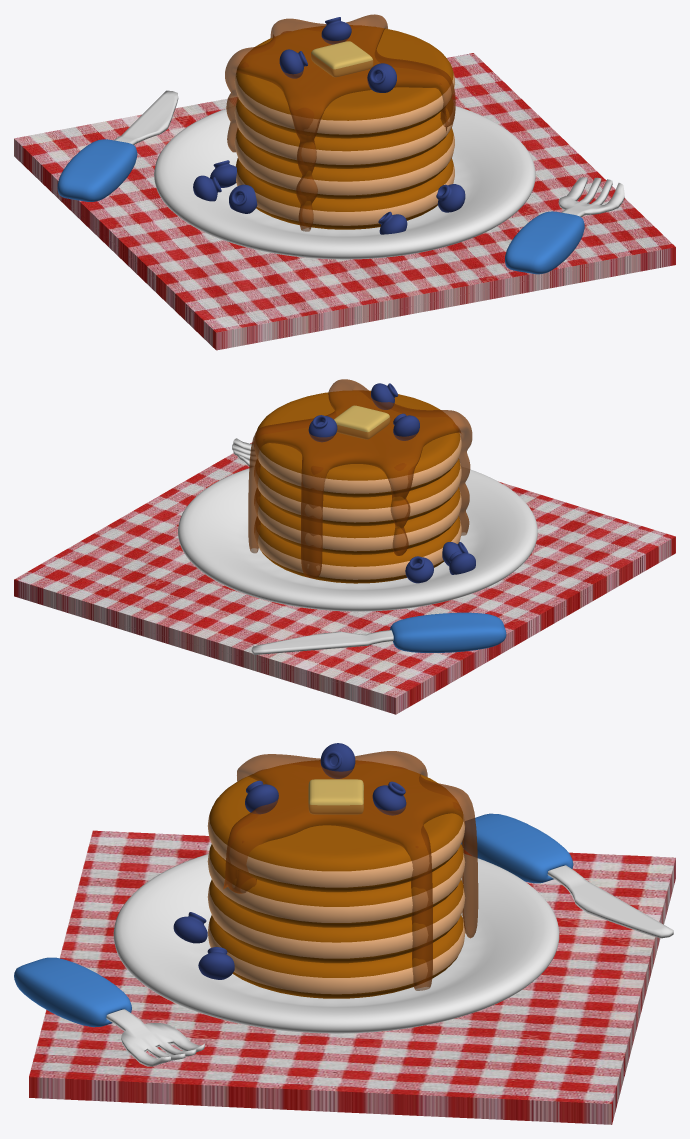
Rendered from pancake.glb.
The picture shows the model from 3 angles, top to bottom: view 1: azimuth 30°, elevation 25°; view 2: azimuth 150°, elevation 25°; view 3: azimuth 270°, elevation 25°; orthographic projection. The views are drawn at different scales.
Visible parts, largest first — view 1: Plane.002, Circle.001, Circle, Plane, Cube.004, Cube.002, Cube.001, Cube, Cube.003, Sphere.006, Sphere.003, Sphere.002 (+5 smaller); view 2: Plane.002, Circle.001, Circle, Plane, Cube.004, Cube.003, Cube, Sphere, Sphere.005, Sphere.007, Sphere.006, Sphere.004; view 3: Plane.002, Circle.001, Circle, Plane, Cube.002, Cube.004, Cube.003, Cube.001, Cube, Sphere.007, Sphere.003, Sphere.005 (+2 smaller).
Boxes of the visible parts, bbox=[...] form: Plane.002: bbox=[14, 53, 675, 350]; Circle.001: bbox=[234, 25, 454, 229]; Circle: bbox=[154, 106, 535, 259]; Plane: bbox=[225, 14, 455, 231]; Cube.004: bbox=[57, 139, 137, 201]; Cube.002: bbox=[505, 211, 584, 274]; Cube.001: bbox=[558, 177, 624, 217]; Cube: bbox=[311, 41, 373, 77]; Cube.003: bbox=[114, 90, 178, 144]; Sphere.006: bbox=[367, 63, 396, 92]; Sphere.003: bbox=[436, 184, 465, 212]; Sphere.002: bbox=[229, 184, 257, 213]; Plane.002: bbox=[14, 442, 675, 714]; Circle.001: bbox=[254, 390, 461, 583]; Circle: bbox=[178, 467, 537, 611]; Plane: bbox=[248, 379, 472, 578]; Cube.004: bbox=[390, 612, 506, 652]; Cube.003: bbox=[251, 630, 393, 654]; Cube: bbox=[334, 405, 390, 439]; Sphere: bbox=[405, 556, 433, 583]; Sphere.005: bbox=[308, 415, 337, 442]; Sphere.007: bbox=[393, 413, 419, 440]; Sphere.006: bbox=[371, 383, 398, 409]; Sphere.004: bbox=[449, 551, 475, 574]; Plane.002: bbox=[29, 830, 675, 1124]; Circle.001: bbox=[207, 760, 465, 998]; Circle: bbox=[113, 854, 559, 1033]; Plane: bbox=[223, 751, 478, 990]; Cube.002: bbox=[14, 957, 131, 1027]; Cube.004: bbox=[461, 813, 573, 883]; Cube.003: bbox=[547, 865, 673, 938]; Cube.001: bbox=[106, 1009, 204, 1066]; Cube: bbox=[308, 779, 363, 814]; Sphere.007: bbox=[320, 743, 355, 778]; Sphere.003: bbox=[198, 947, 234, 979]; Sphere.005: bbox=[372, 781, 406, 815].
Bounding box in the file's own units: 0.2228 × 0.0795 × 0.2279.
Materials: 8 (1 with a texture image).
